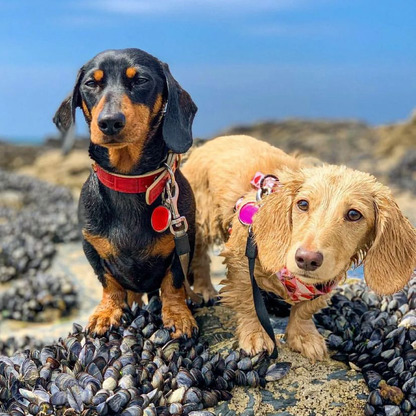dachshund: (50, 48, 206, 342), (219, 118, 399, 366)
